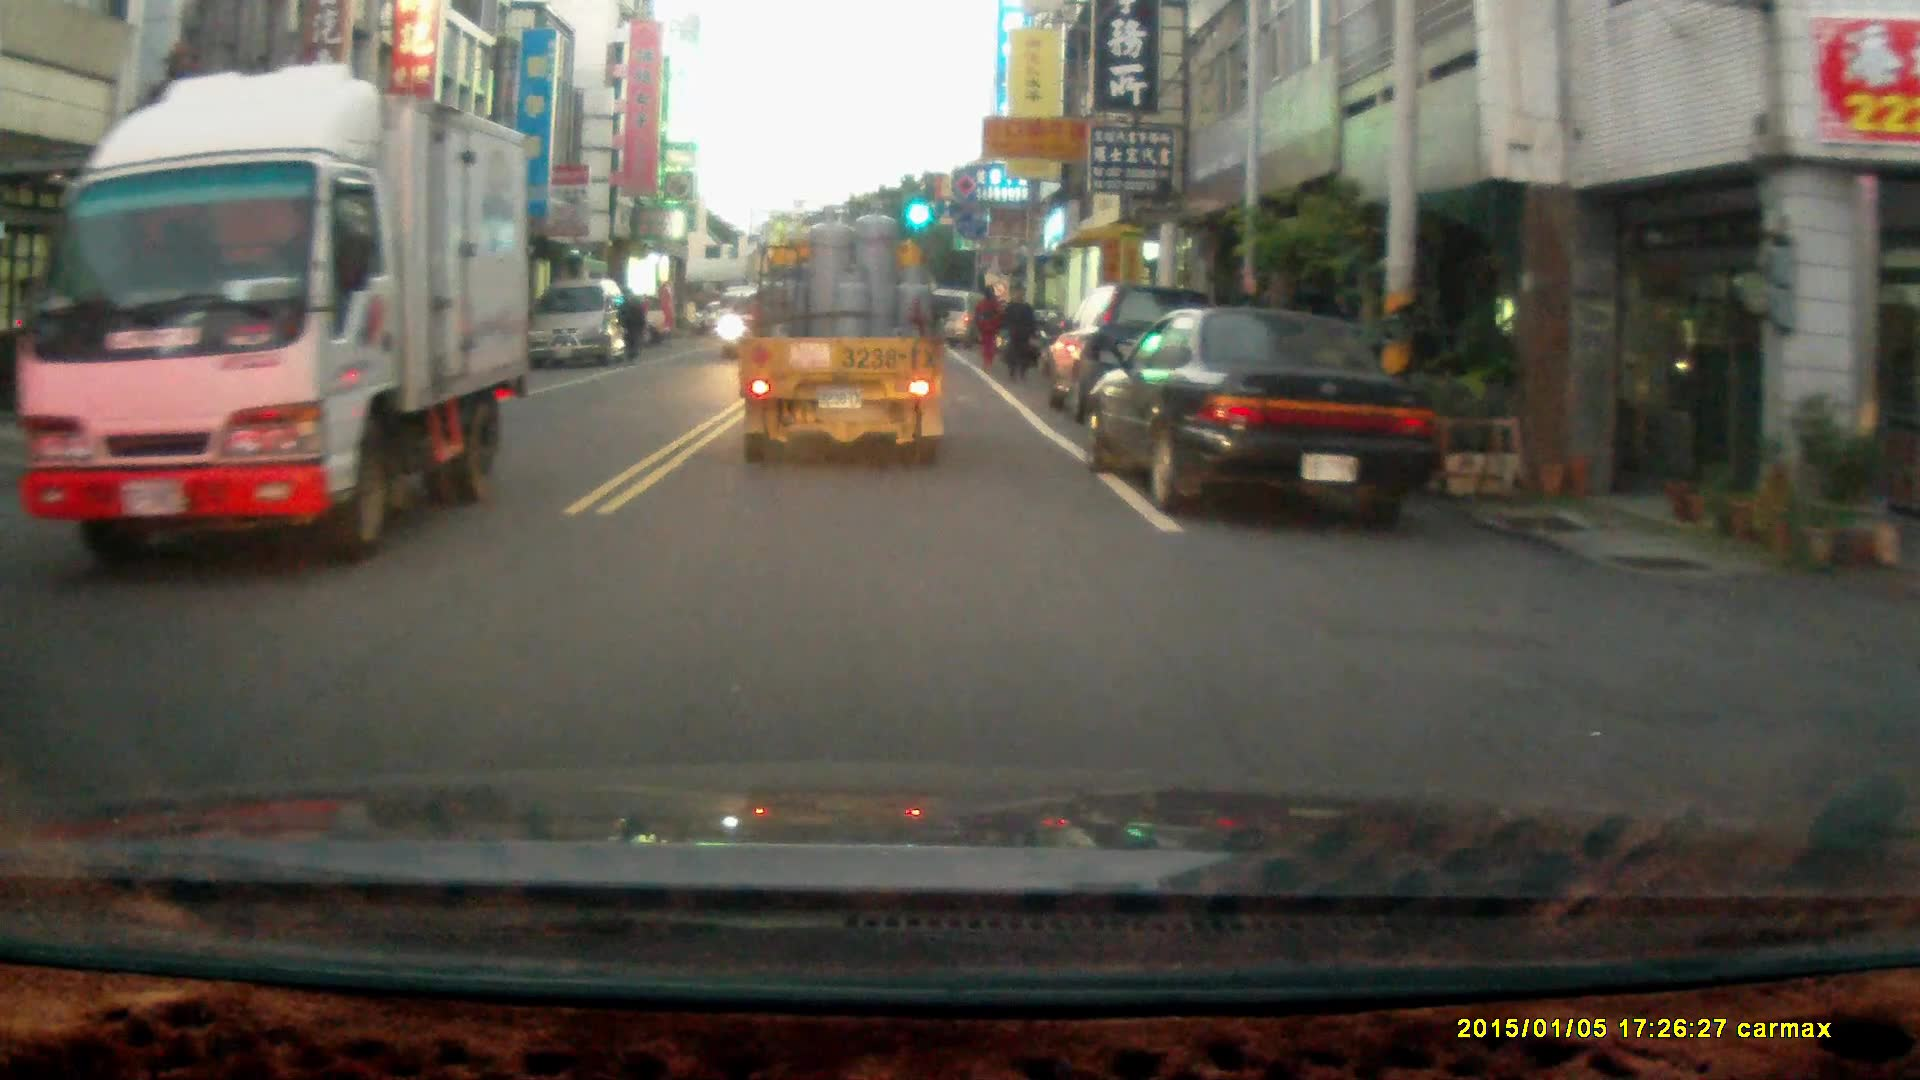pedestrian: (998, 277, 1036, 381), (971, 283, 1006, 367), (615, 286, 646, 361)
vehicle: (5, 63, 533, 559), (1087, 307, 1442, 522), (736, 195, 948, 469), (1043, 280, 1240, 426), (528, 278, 630, 367), (710, 279, 808, 368)
